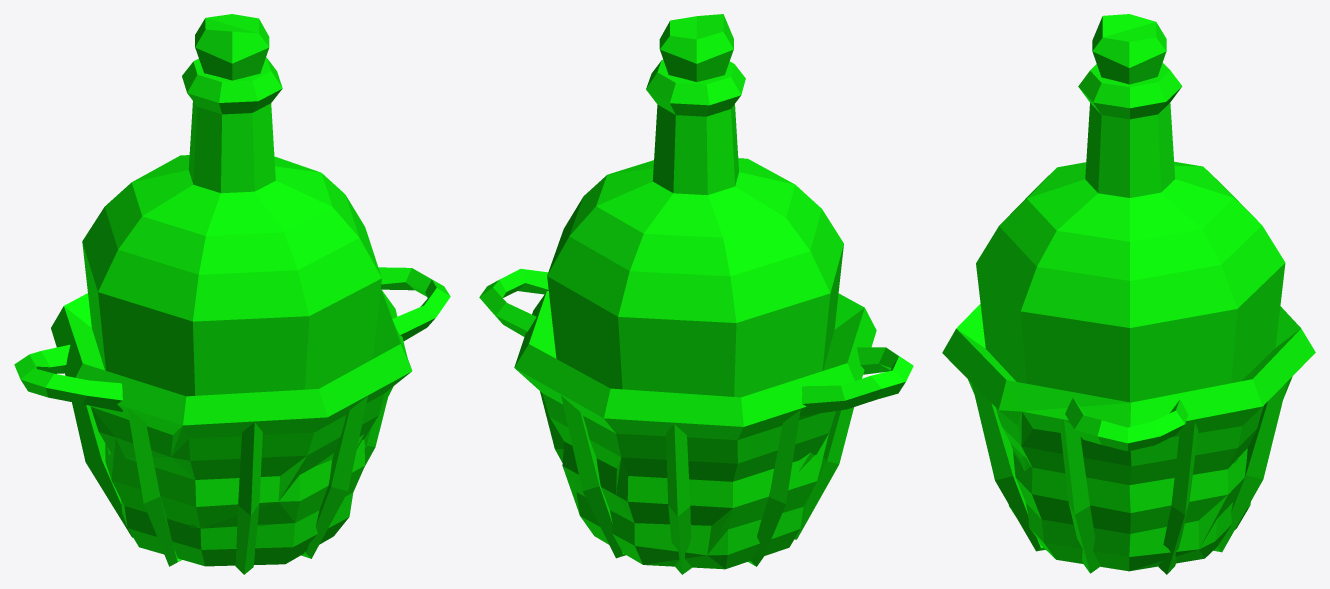
Rendered from SM_Bottle_Fantasy_Wicker_C.fbx.
3 renders of one model, left to right at view 1: azimuth 30°, elevation 25°; view 2: azimuth 150°, elevation 25°; view 3: azimuth 270°, elevation 25°, orthographic.
Visible parts, largest first — view 1: bottle-fantasy-wicker-c; view 2: bottle-fantasy-wicker-c; view 3: bottle-fantasy-wicker-c.
Part boxes in pixels (x1,y1,x2,y2): bottle-fantasy-wicker-c: (14,14,450,574); bottle-fantasy-wicker-c: (479,14,913,574); bottle-fantasy-wicker-c: (942,14,1315,574).
Bounding box in the file's own units: 0.3195 × 0.3724 × 0.2456.
